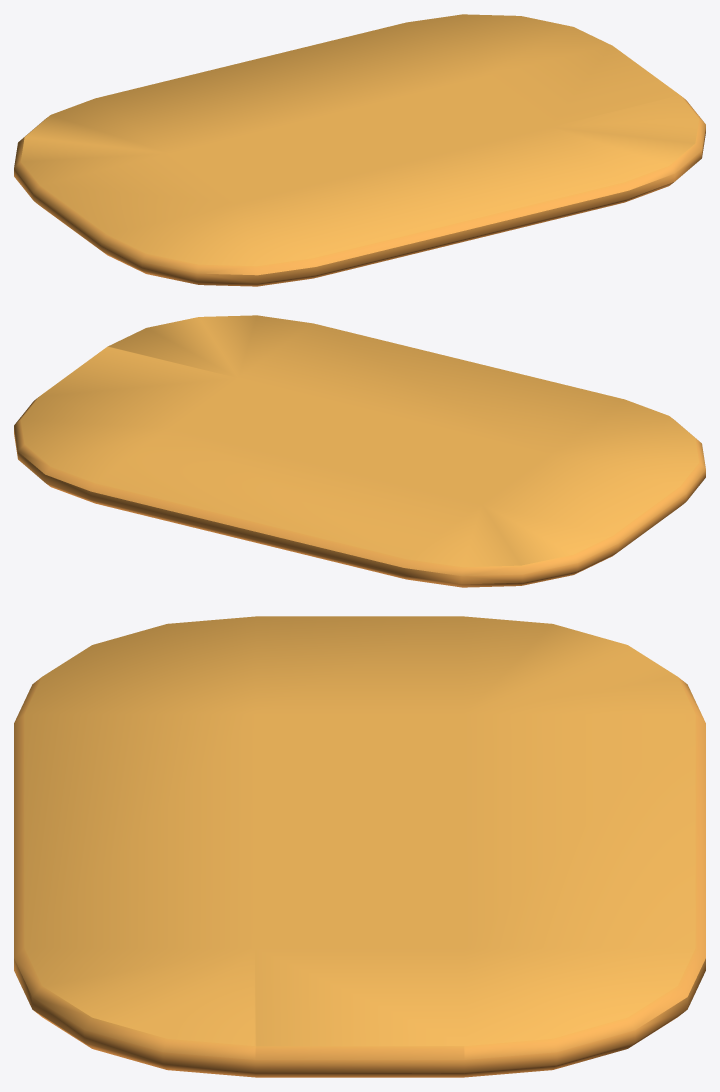
Rendered from rug_oval_A.glb.
3 renders of one model, top to bottom at view 1: azimuth 30°, elevation 25°; view 2: azimuth 150°, elevation 25°; view 3: azimuth 270°, elevation 25°, orthographic. The views are drawn at different scales.
Visible parts, largest first — view 1: rug_oval_A; view 2: rug_oval_A; view 3: rug_oval_A.
Part boxes in pixels (<box>): rug_oval_A: <box>14,14,705,286</box>; rug_oval_A: <box>14,315,705,587</box>; rug_oval_A: <box>14,616,705,1077</box>.
Size of the model in its own units: 3 by 0.1 by 2.
1 material, 1 textured.
